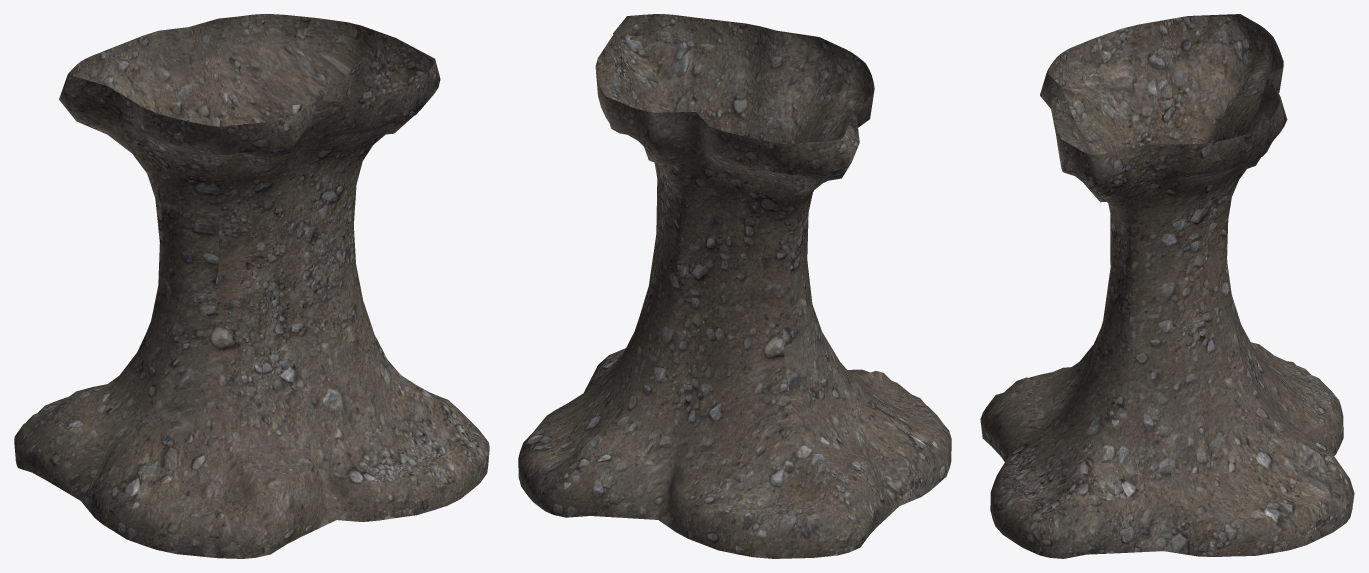
The model's file is cave_modules_pillar_1.dae.
The picture shows the model from 3 angles, left to right: view 1: azimuth 30°, elevation 25°; view 2: azimuth 150°, elevation 25°; view 3: azimuth 270°, elevation 25°; orthographic projection. The views are drawn at different scales.
Parts seen in each view (by area): view 1: pillar; view 2: pillar; view 3: pillar.
Part boxes in pixels (x1,y1,x2,y2): pillar: (14, 14, 489, 558); pillar: (518, 14, 951, 558); pillar: (980, 14, 1354, 558).
Size of what is drawn, in the model's own units: 5.99 by 6.35 by 5.44.
